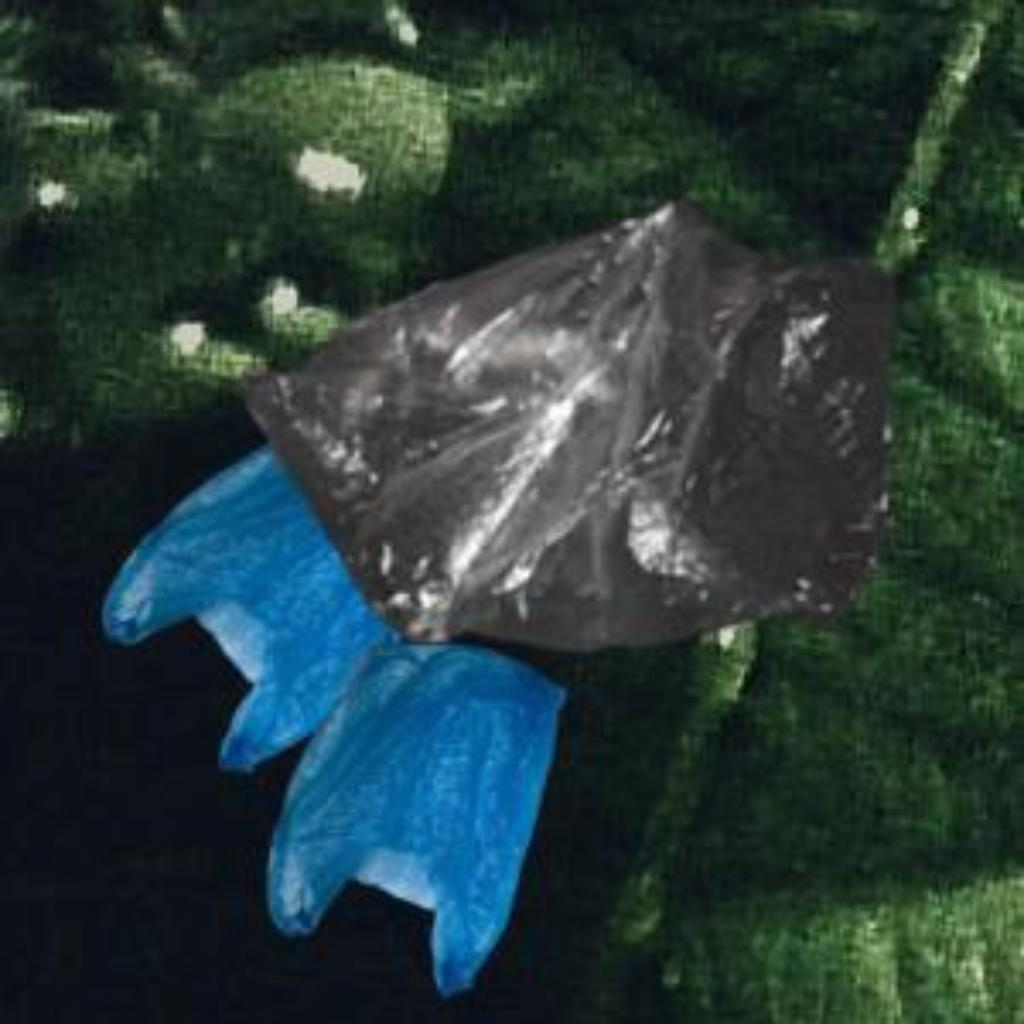garbage: (276, 222, 928, 672), (263, 597, 584, 997), (114, 452, 374, 773)
